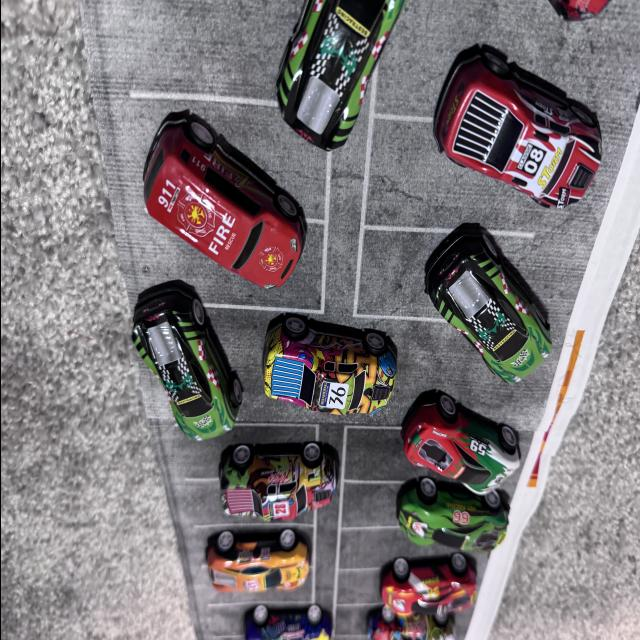Car: (130, 124, 331, 280), (411, 61, 618, 207), (113, 224, 245, 446), (414, 224, 567, 405), (255, 0, 387, 165), (252, 309, 406, 413), (199, 439, 347, 543), (342, 542, 491, 622), (364, 472, 526, 540), (388, 420, 538, 488), (193, 527, 297, 596), (230, 605, 328, 640), (360, 612, 460, 640)
